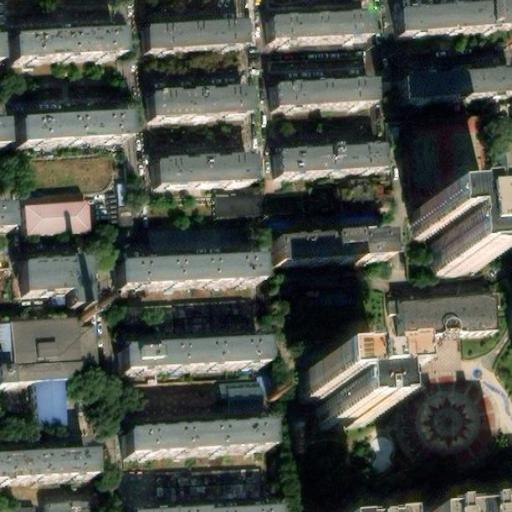building: (117, 335, 262, 374), (121, 419, 269, 457), (111, 253, 257, 291), (414, 209, 493, 276), (0, 322, 92, 378), (385, 293, 492, 339), (300, 363, 378, 424), (271, 232, 379, 268), (402, 63, 512, 98), (7, 30, 119, 64), (13, 115, 125, 148), (270, 73, 375, 108), (142, 15, 244, 51), (267, 5, 369, 41), (151, 152, 251, 188), (400, 0, 512, 32), (274, 137, 379, 171), (147, 84, 247, 119), (14, 264, 85, 313), (19, 203, 84, 236), (210, 193, 260, 220), (126, 503, 272, 512), (218, 378, 264, 403), (39, 500, 90, 512), (0, 199, 16, 229)
